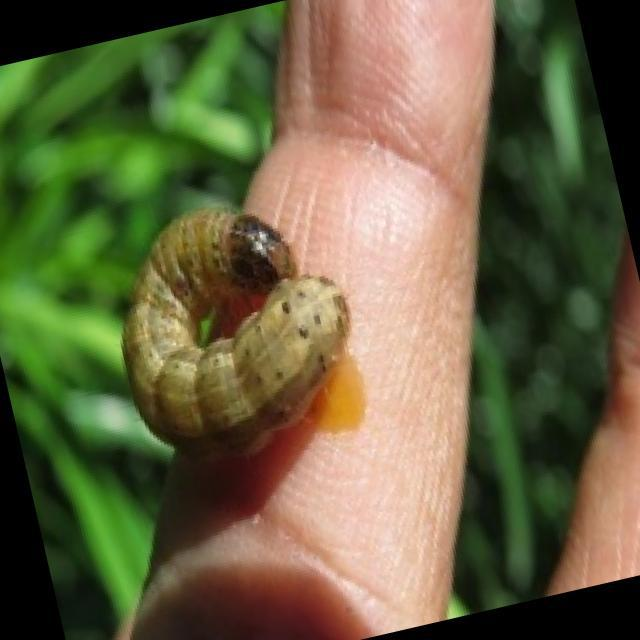Plaga: (86, 174, 377, 463)
